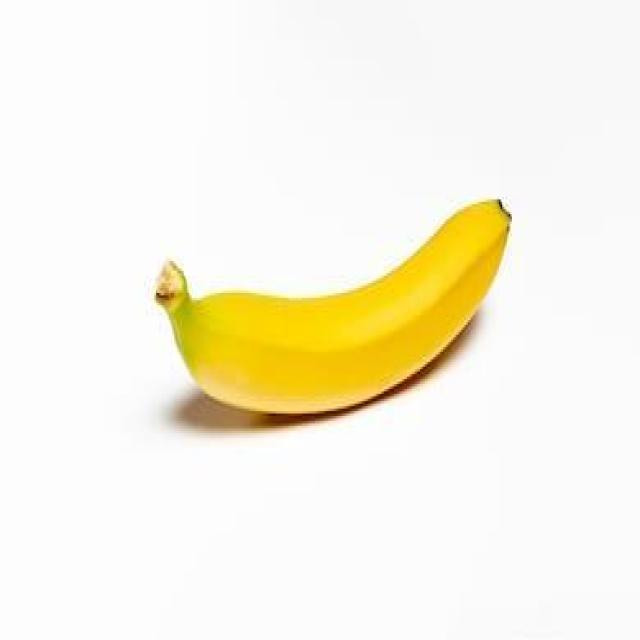banana: (154, 193, 515, 417)
